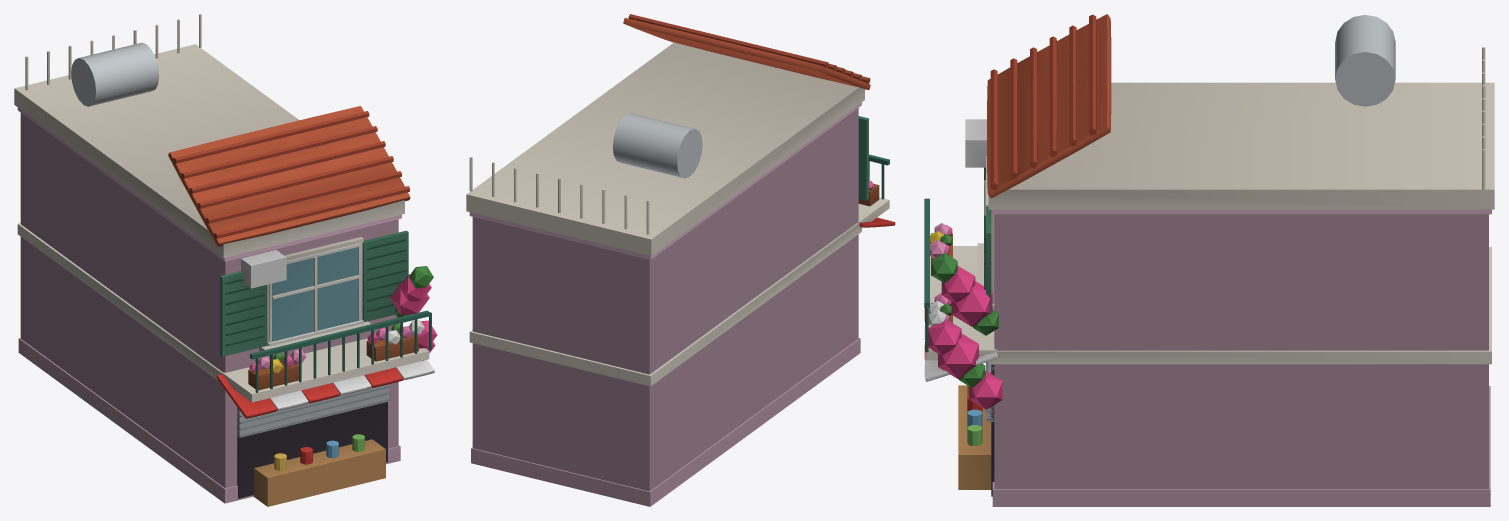
Rendered from hs-1afpy3x.glb.
3 views of the same model, side by side, from view 1: azimuth 30°, elevation 25°; view 2: azimuth 150°, elevation 25°; view 3: azimuth 270°, elevation 25° (orthographic). The views are drawn at different scales.
Bounding box in the file's own units: 5.07 × 7.95 × 10.37.
